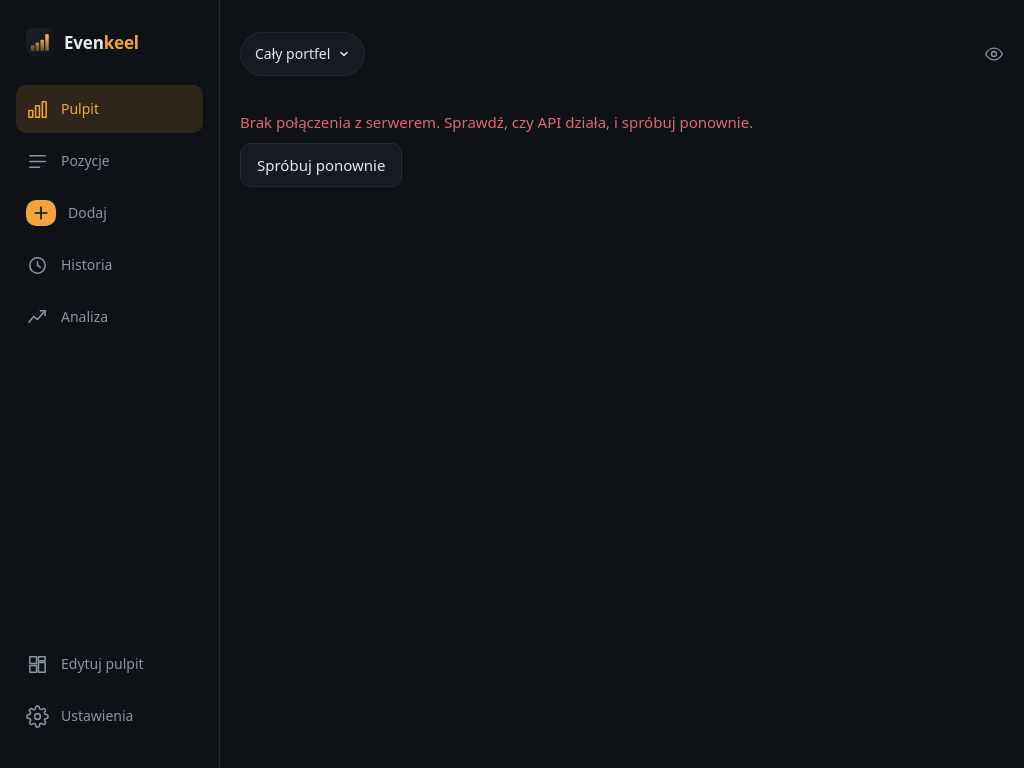
Scenario: dashboard screen › says when the API cannot be reached and lets the user try again
The width and height of the screenshot is (1024, 768).
Check: the message reads "Brak połączenia z serwerem. Sprawdź, czy API działa, i spróbuj ponownie.", box [240,112,753,132]
Click the button "Spróbuj ponownie": (321, 165) [240,143,402,187]
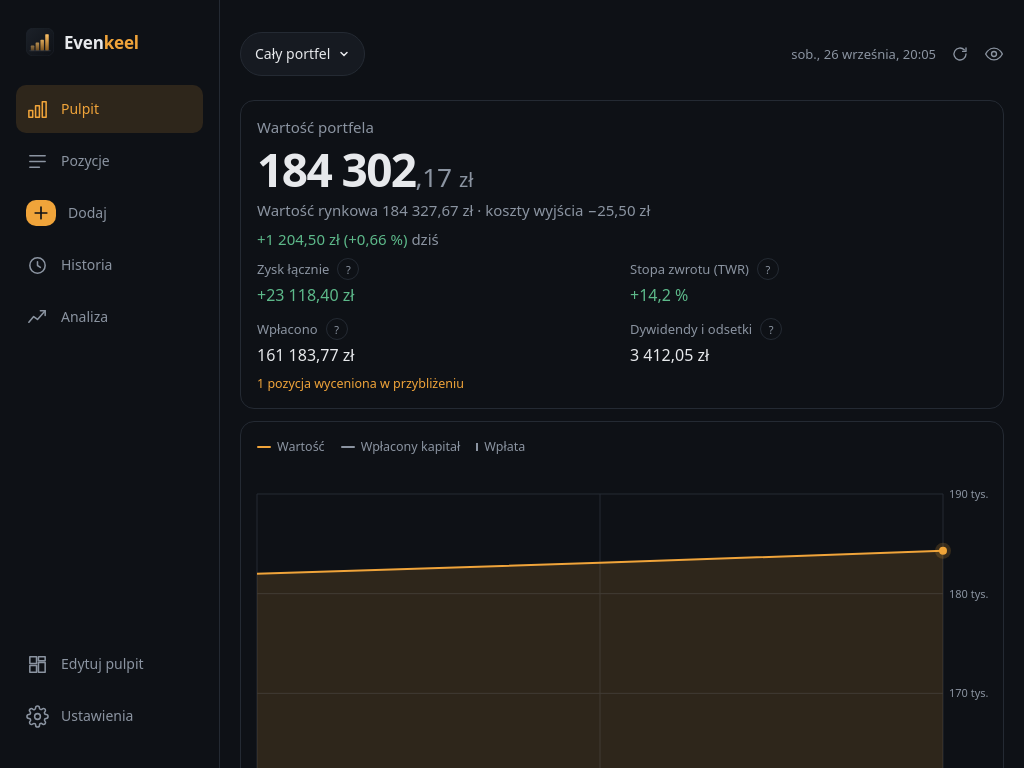
Check: the text "Wartość portfela" is shown, box [257,117,374,137]
